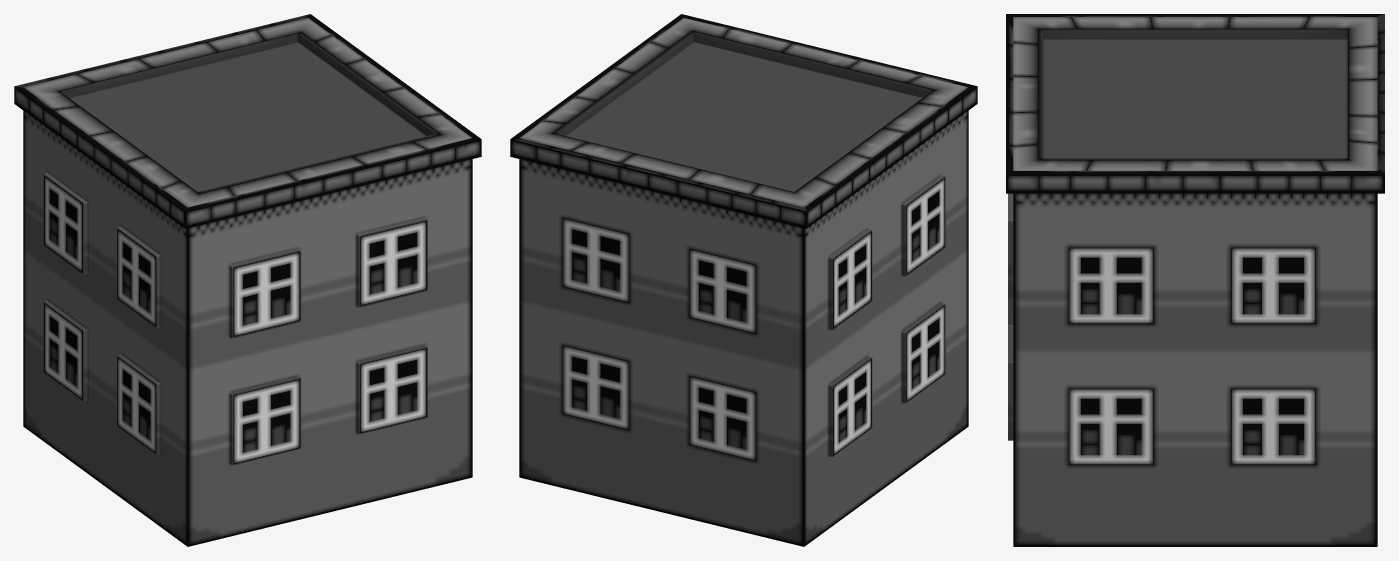
The model's file is city_03.fbx.
3 renders of one model, left to right at view 1: azimuth 30°, elevation 25°; view 2: azimuth 150°, elevation 25°; view 3: azimuth 270°, elevation 25°, orthographic. The views are drawn at different scales.
Parts seen in each view (by area): view 1: 立方体.022; view 2: 立方体.022; view 3: 立方体.022.
Boxes of the visible parts, x1,y1,x2,y2 form: 立方体.022: (14, 14, 481, 546); 立方体.022: (510, 14, 977, 546); 立方体.022: (1006, 14, 1384, 546).
Bounding box in the file's own units: 183 × 202 × 183.
